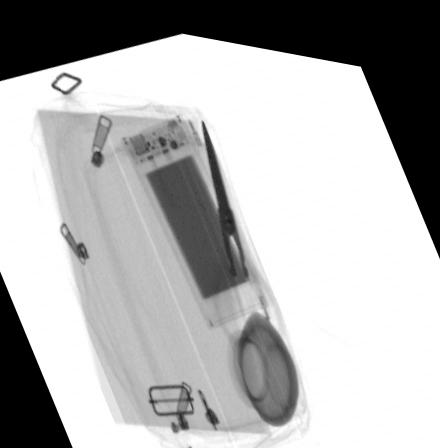Powerbank: (115, 102, 273, 324)
Scissors: (200, 107, 287, 342)
